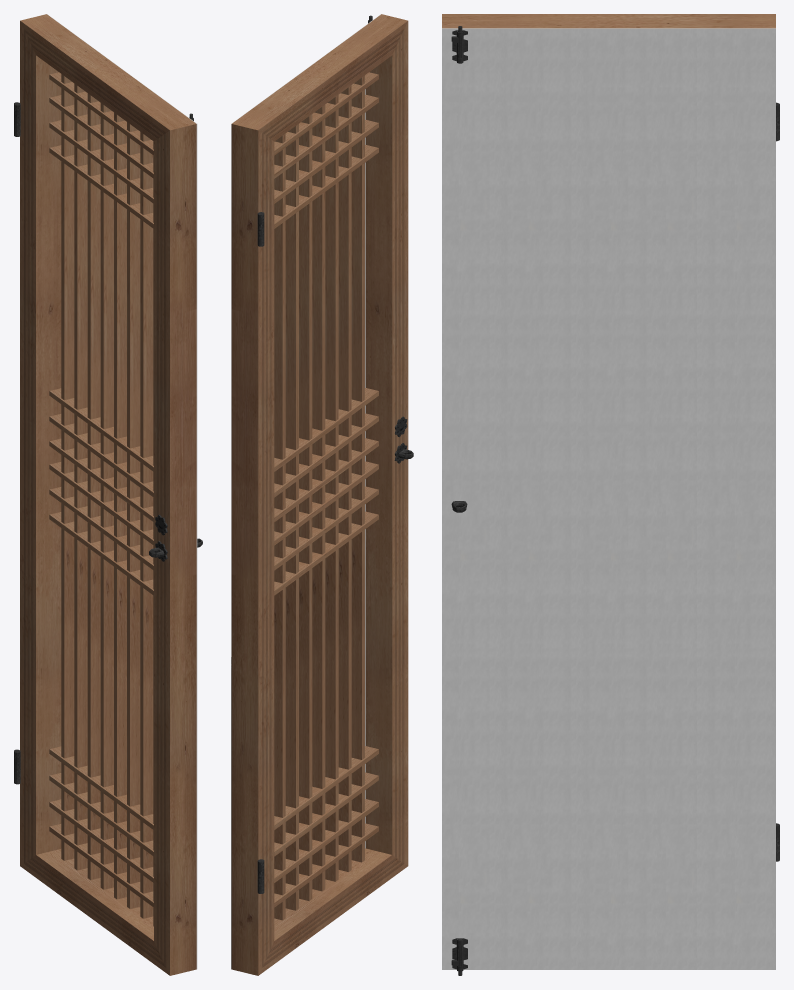
File: SM_JSH_WindowG.fbx
3 views of the same model, side by side, from view 1: azimuth 30°, elevation 25°; view 2: azimuth 150°, elevation 25°; view 3: azimuth 270°, elevation 25° (orthographic). The views are drawn at different scales.
Visible parts, largest first — view 1: SM_JSH_WindowG; view 2: SM_JSH_WindowG; view 3: SM_JSH_WindowG.
Part boxes in pixels (<box>): SM_JSH_WindowG: <box>14,14,202,975</box>; SM_JSH_WindowG: <box>231,14,413,975</box>; SM_JSH_WindowG: <box>442,14,779,975</box>.
Size of the model in its own units: 11.05 by 56.41 by 175.
1 material, 1 textured.
